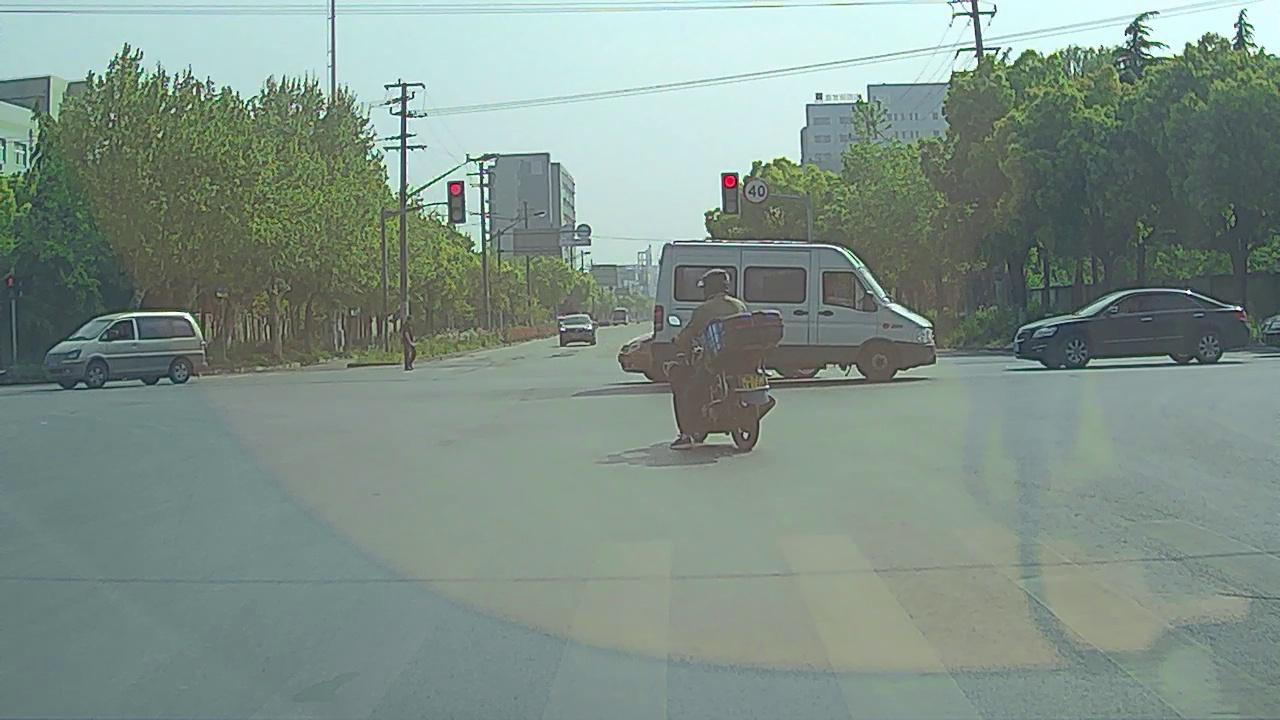traffic_light: (448, 180, 466, 223), (723, 172, 739, 215)
